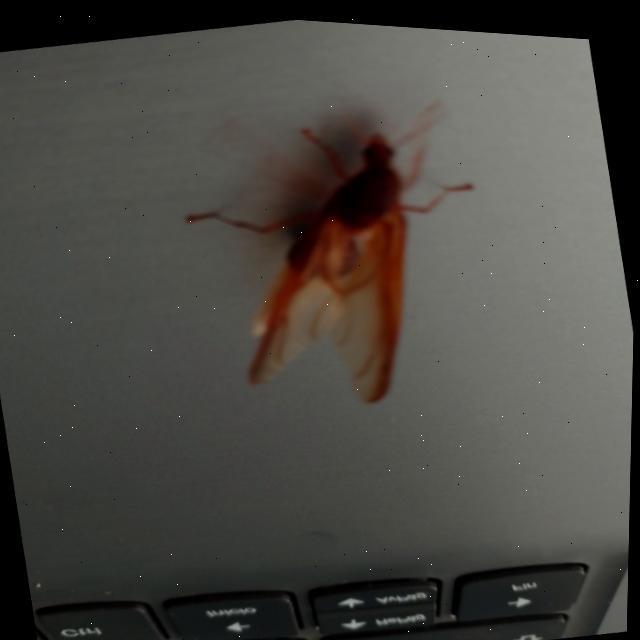Alive-Male-Alate: (168, 78, 510, 431)
